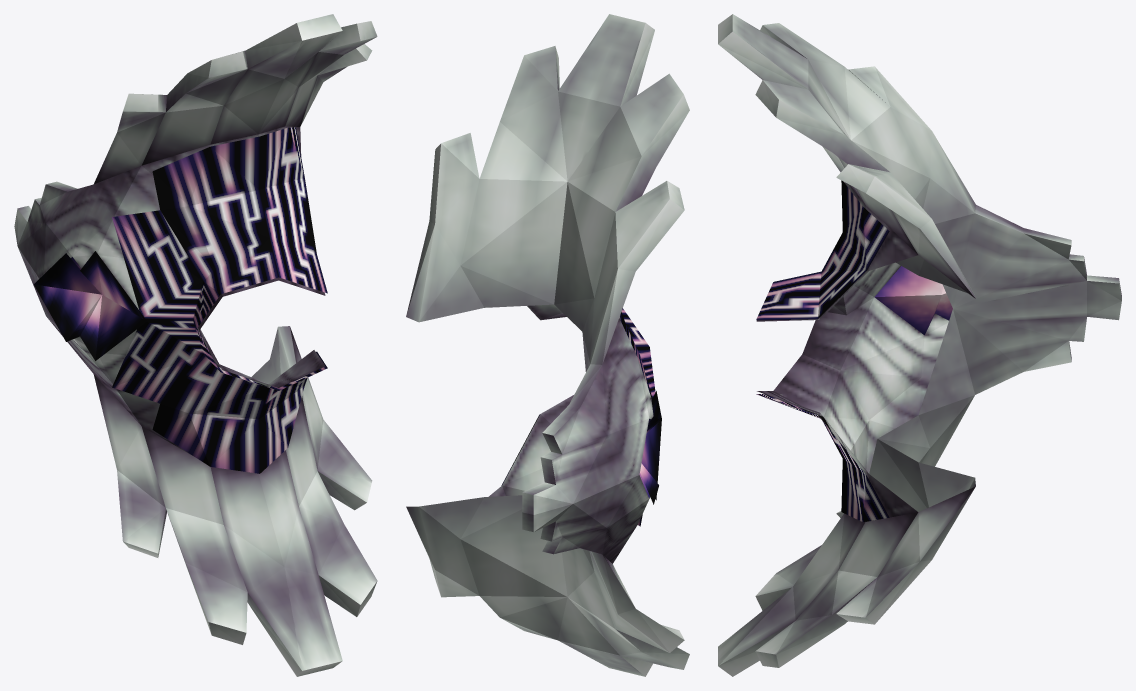
3 views of the same model, side by side, from view 1: azimuth 30°, elevation 25°; view 2: azimuth 150°, elevation 25°; view 3: azimuth 270°, elevation 25° (orthographic).
Parts seen in each view (by area): view 1: B_0099_1a_1, B_0099_1a_0; view 2: B_0099_1a_1, B_0099_1a_0; view 3: B_0099_1a_1, B_0099_1a_0.
Part boxes in pixels (<box>): B_0099_1a_1: <box>14,14,377,676</box>; B_0099_1a_0: <box>34,127,327,473</box>; B_0099_1a_1: <box>406,14,689,676</box>; B_0099_1a_0: <box>501,308,661,526</box>; B_0099_1a_1: <box>718,14,1121,676</box>; B_0099_1a_0: <box>756,180,889,521</box>.
Size of the model in its own units: 0.8525 by 1.95 by 1.11.
2 materials, 2 textured.
